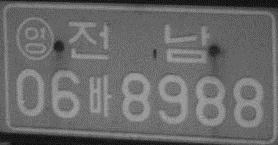0: (16, 67, 45, 117)
6: (50, 68, 80, 119)
8: (119, 70, 152, 123), (194, 74, 227, 127), (232, 76, 264, 129)
9: (157, 73, 188, 124)
바: (87, 73, 113, 118)
영: (14, 16, 57, 62)
전남_D: (66, 19, 212, 64)
